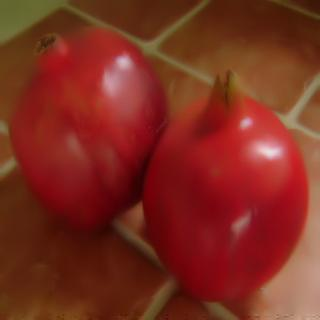tomato: (142, 76, 308, 307)
